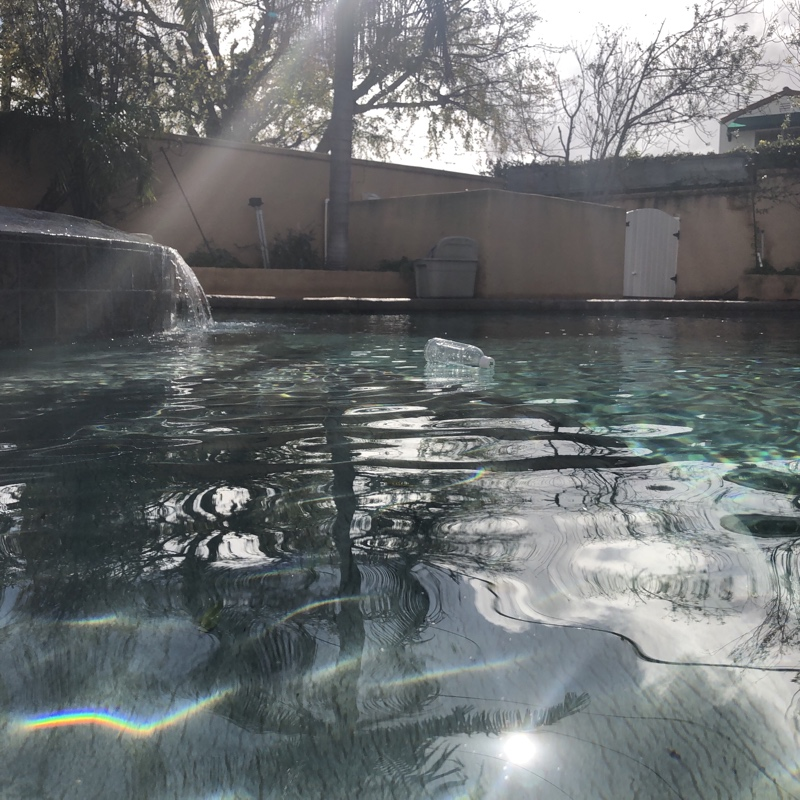Plastic Bottle: (419, 333, 496, 378)
